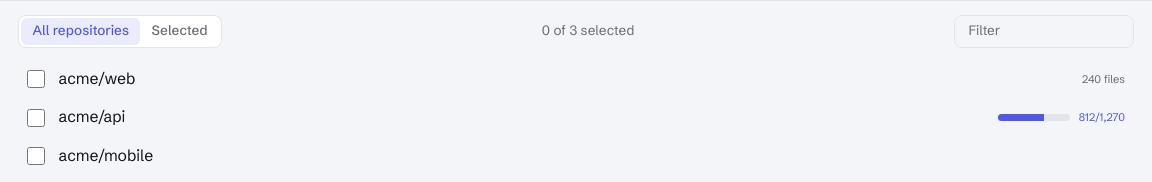
Test: SourceItemList (U3 — controlled) › filters visible rows by label substring
Step 1. Type "mobile" into the search field with placeholder "Filter" → (1044, 31), box [954,14,1134,48]
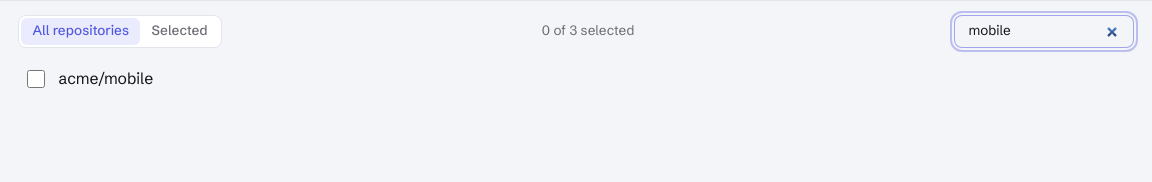
Check: the text "acme/mobile" is shown, box [58,69,153,88]
Check: the text "acme/web" is gone
